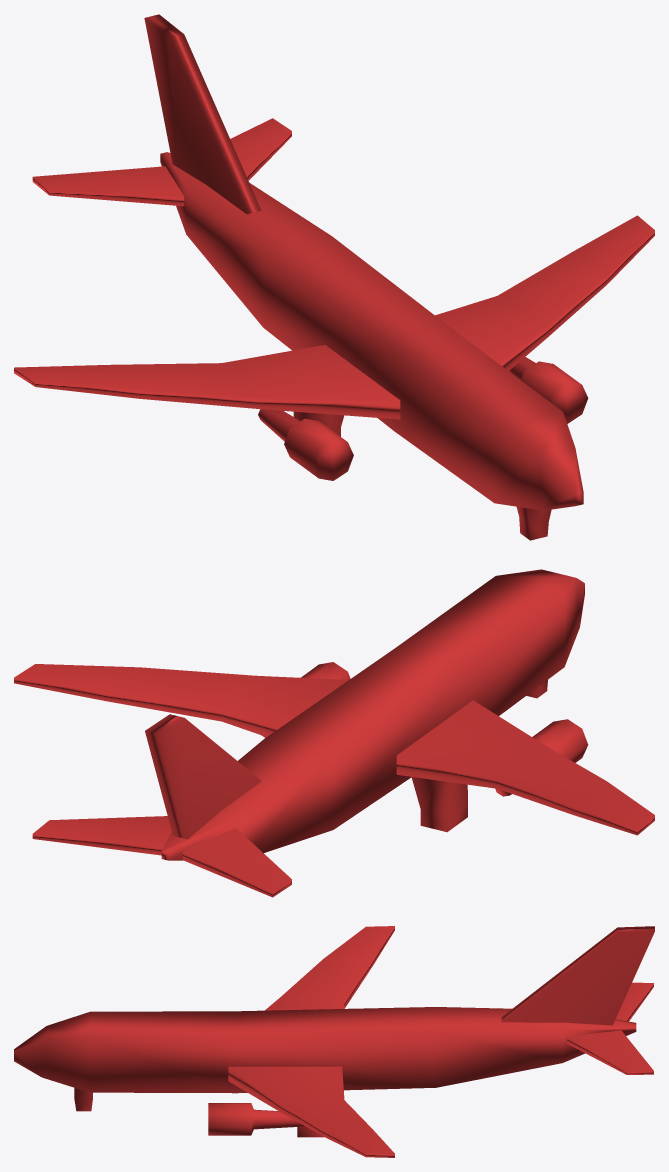
File: passagiermaschine_a320_colmesh.fbx
3 renders of one model, top to bottom at view 1: azimuth 30°, elevation 25°; view 2: azimuth 150°, elevation 25°; view 3: azimuth 270°, elevation 25°, orthographic. The views are drawn at different scales.
Visible parts, largest first — view 1: body_main; view 2: body_main; view 3: body_main.
Boxes of the visible parts, x1=… form: body_main: x1=14, y1=14, x2=654, y2=540; body_main: x1=14, y1=569, x2=654, y2=897; body_main: x1=14, y1=926, x2=654, y2=1157.
Size of the model in its own units: 3673 by 1355 by 4371.
